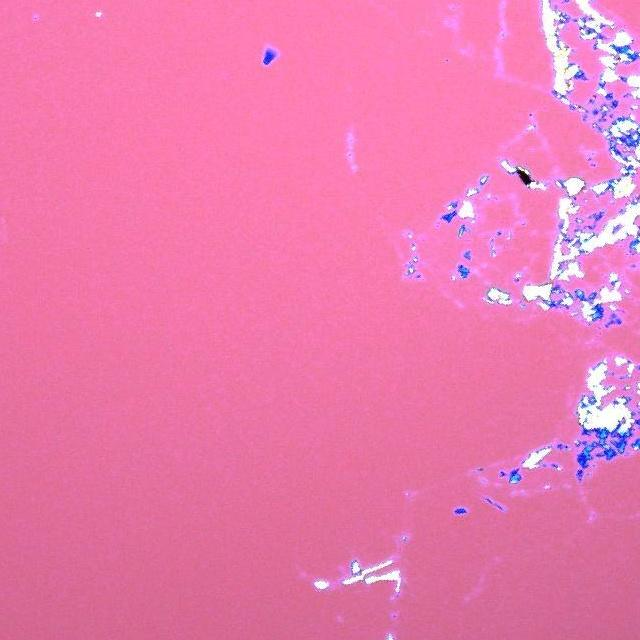monolayer-eWW4: (266, 45, 279, 54)
